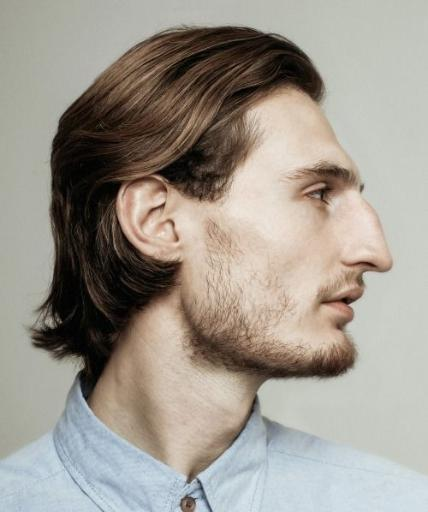right_eye: (297, 183, 336, 208)
right_lip_corner: (316, 294, 335, 316)
